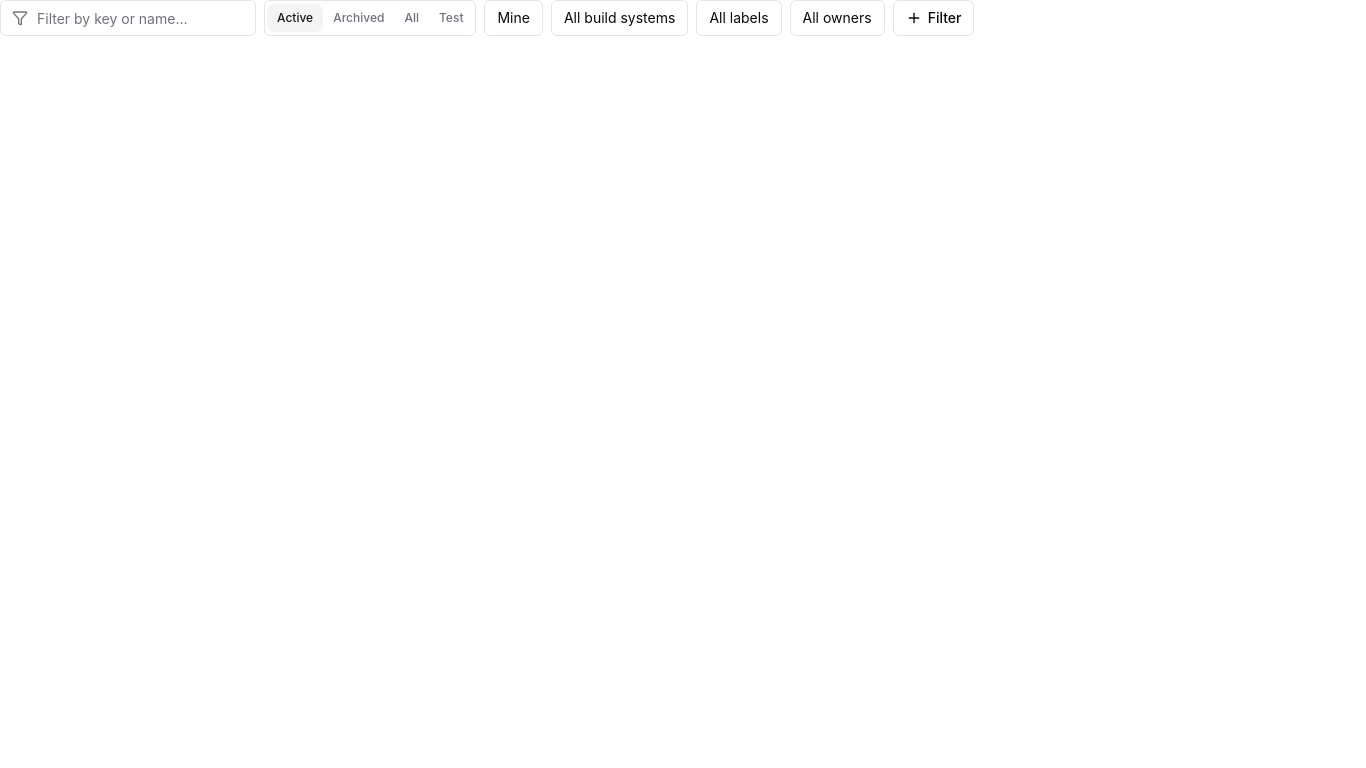
Scenario: ComponentFilters "+ Filter" panel (extended dimensions) › a classic filter set searchable:Extended moves into "+ Filter"
The width and height of the screenshot is (1366, 768).
Click the button with aria-label "Add filter".
click(934, 18)  # box [893,0,974,36]
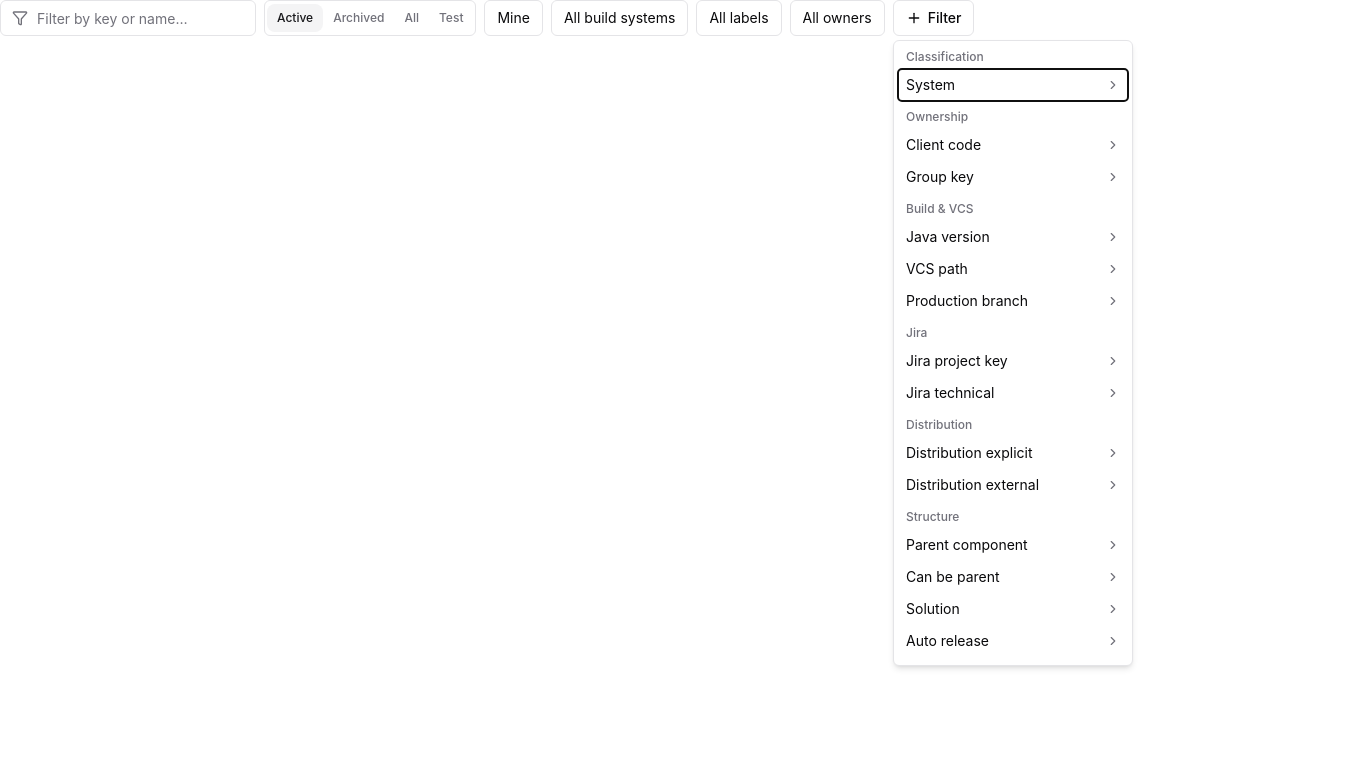
Click the button "System".
click(1013, 85)  # box [898,69,1128,101]
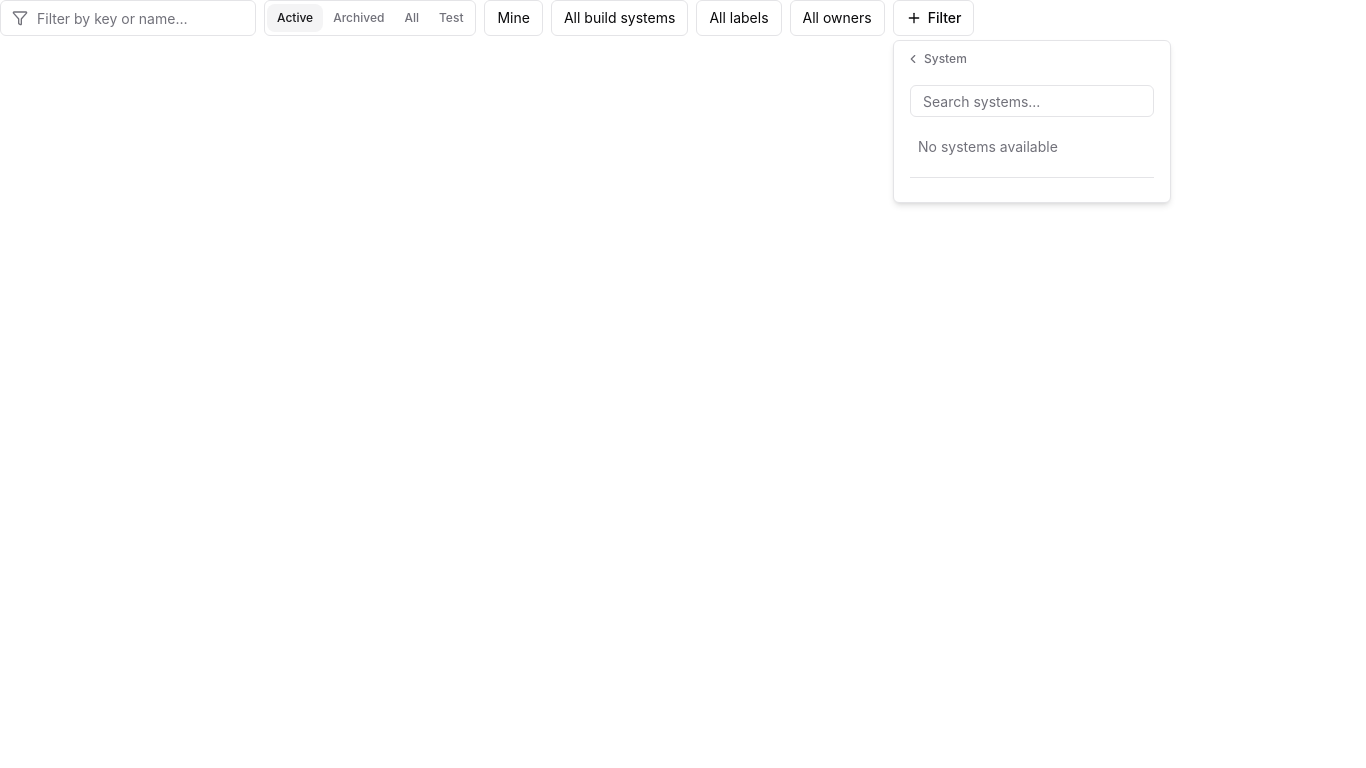
Expected: the field with placeholder "Search systems..." is shown, [910,85,1154,117]
